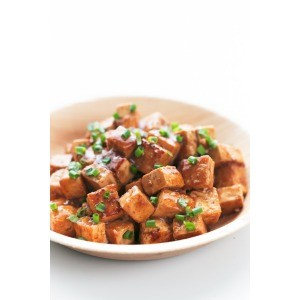tofu_brain food: (57, 100, 240, 254)
